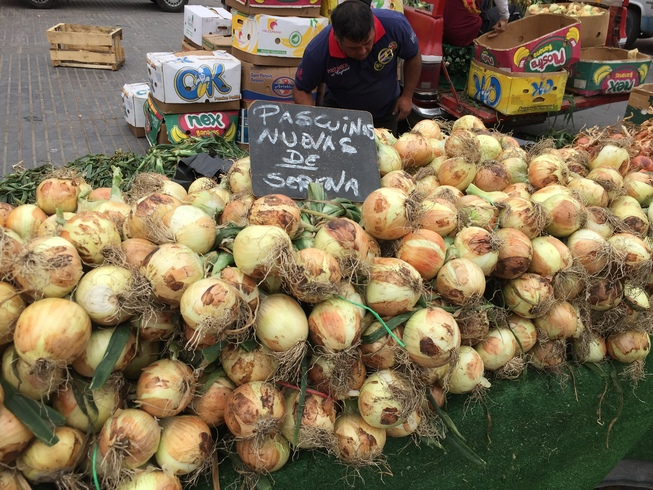precio: (247, 96, 389, 215)
